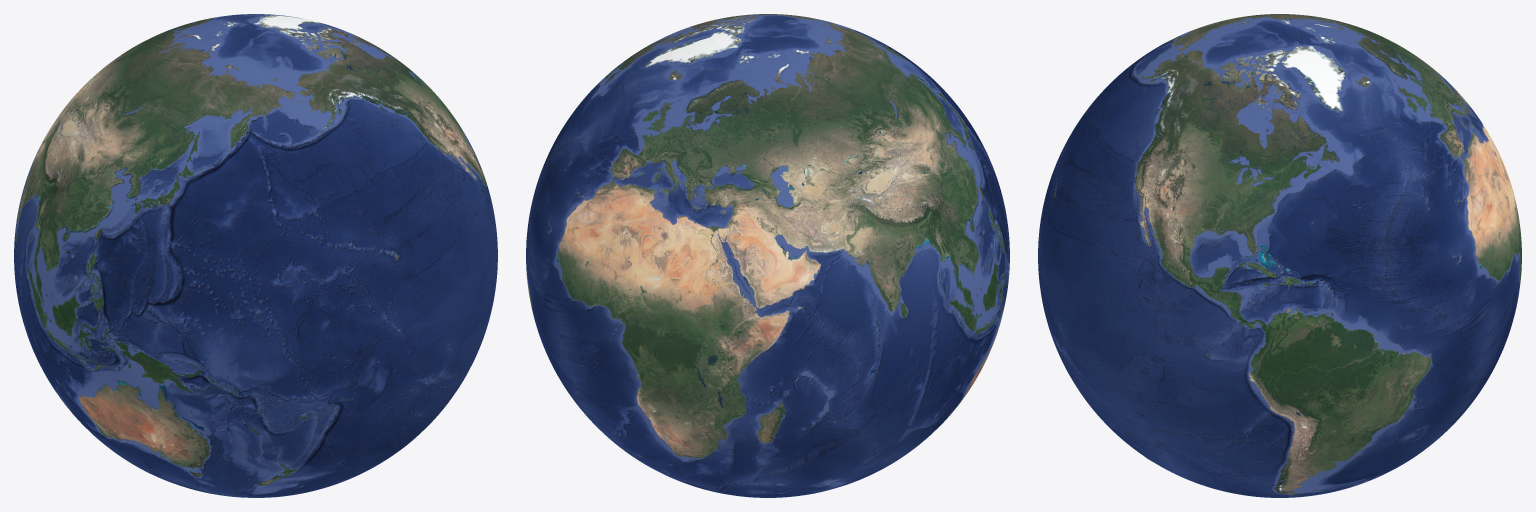
Rendered from earth.glb.
The picture shows the model from 3 angles, left to right: view 1: azimuth 30°, elevation 25°; view 2: azimuth 150°, elevation 25°; view 3: azimuth 270°, elevation 25°; orthographic projection.
Visible parts, largest first — view 1: meshNode; view 2: meshNode; view 3: meshNode.
Boxes of the visible parts, x1=… form: meshNode: x1=14, y1=14, x2=497, y2=497; meshNode: x1=526, y1=14, x2=1009, y2=497; meshNode: x1=1038, y1=14, x2=1521, y2=497.
Bounding box in the file's own units: 21.93 × 21.93 × 21.93.
Materials: 3 (3 with a texture image).
